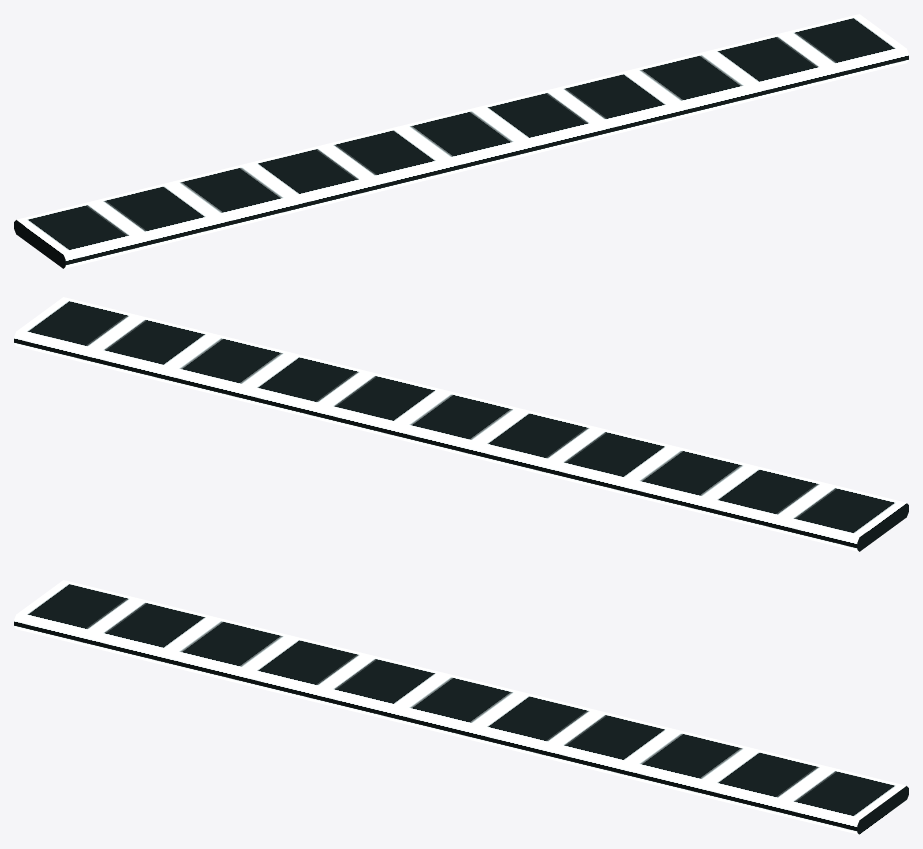
File: Floor.fbx
3 views of the same model, one above another, from view 1: azimuth 30°, elevation 25°; view 2: azimuth 150°, elevation 25°; view 3: azimuth 330°, elevation 25° (orthographic).
Visible parts, largest first — view 1: Cube; view 2: Cube; view 3: Cube.
Part boxes in pixels (x1,y1,x2,y2): Cube: (14,14,908,268); Cube: (14,297,908,551); Cube: (14,580,908,834).
Size of the model in its own units: 1883 by 31.18 by 200.
Materials: 1 (1 with a texture image).
